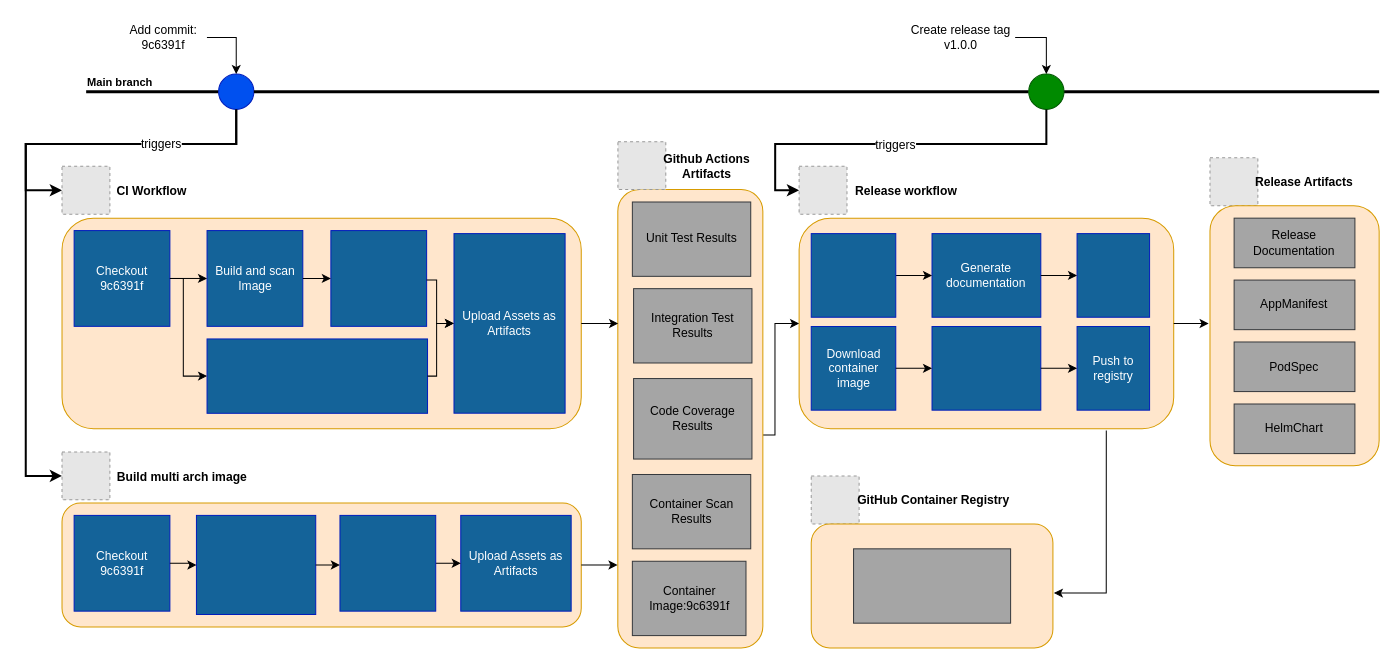
The diagram is 1399 pixels wide and 666 high, and some of its shapes have lost their labels. Grey dashed boxes stand in for pictures. The shapes that lost their labels are listed below. From the top down, each one's centre as x and y in pixels, then its label:
At pixel 378 278: "Run Integration Tests".
At pixel 853 275: "Download results".
At pixel 1113 275: "Upload Assets as Release Artifacts".
At pixel 317 375: "Run Unit Tests, Linters and Generate Code Coverage".
At pixel 986 368: "Add release tag to image".
At pixel 255 564: "Build Image for AMD64 and ARM64".
At pixel 387 562: "Scan Image".
At pixel 932 585: "VehicleApp:1.0.0".
